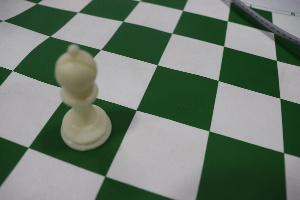white_bishop: (44, 30, 114, 156)
